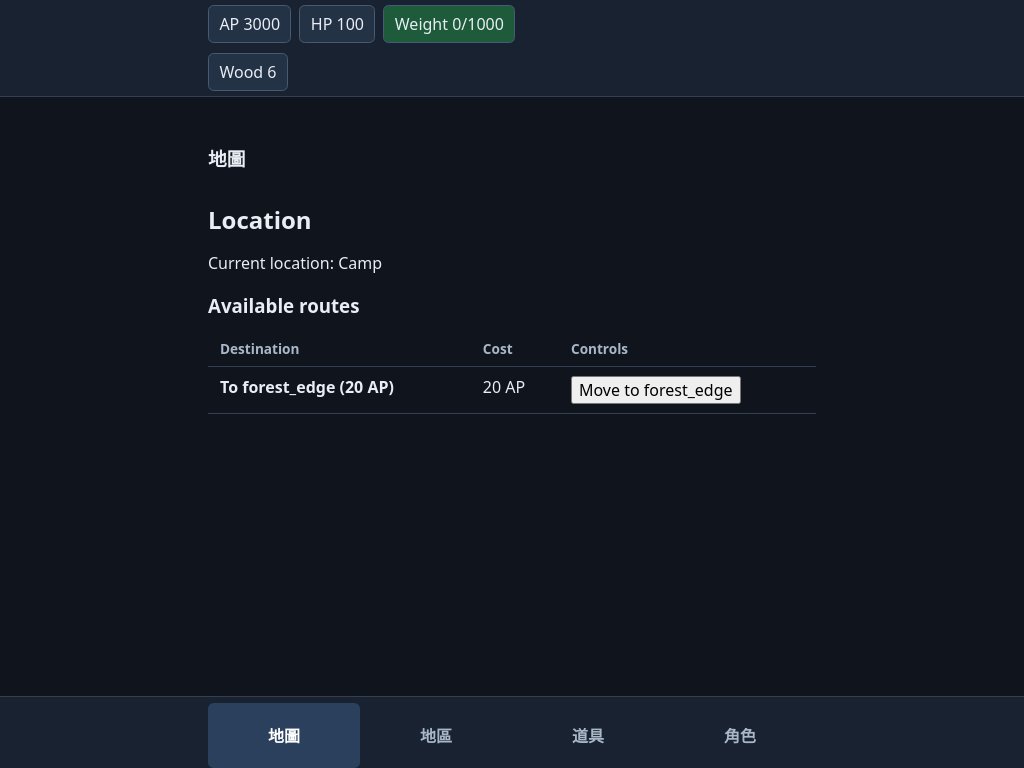
App gameplay tab integration › drops an Item with the requested quantity and applies authoritative state
The image size is (1024, 768).
Expected: the heading "地圖" is shown, top-left (208, 146), bottom-right (245, 171)
Step 1. Click the button "道具" → (588, 735), box top-left (512, 703), bottom-right (664, 767)
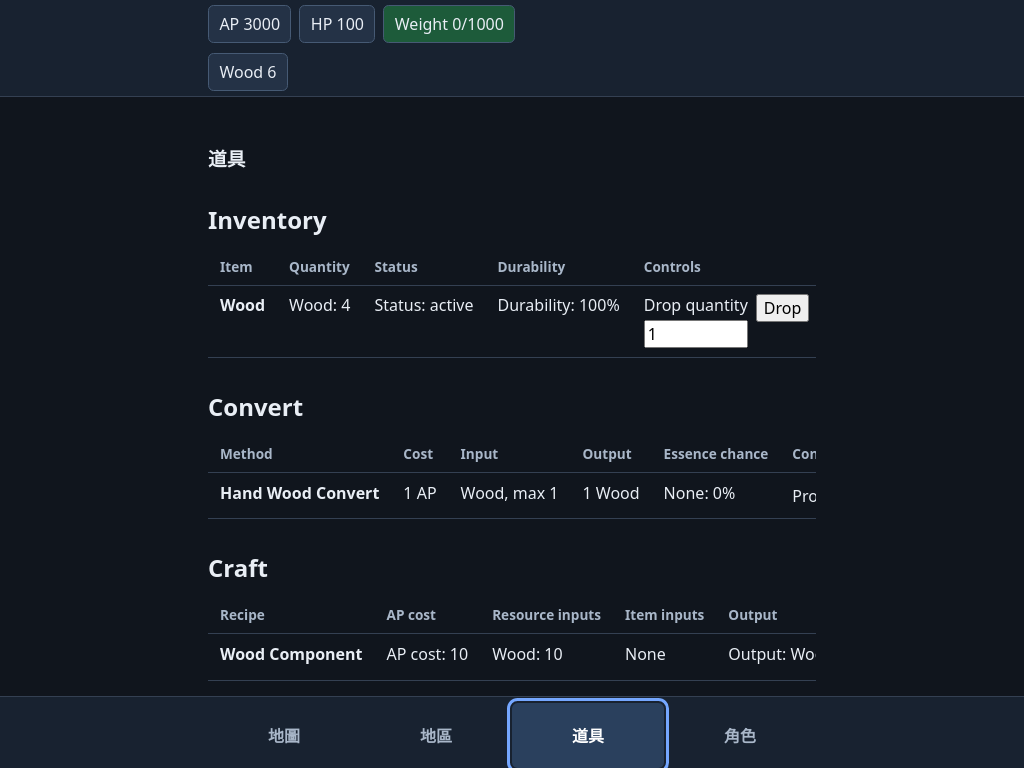
Now the heading "道具" is shown, box top-left (208, 146), bottom-right (245, 171)
Step 2. Replace the text in the number field named "Drop quantity for Wood" with "2" → (696, 334), box top-left (644, 320), bottom-right (748, 348)
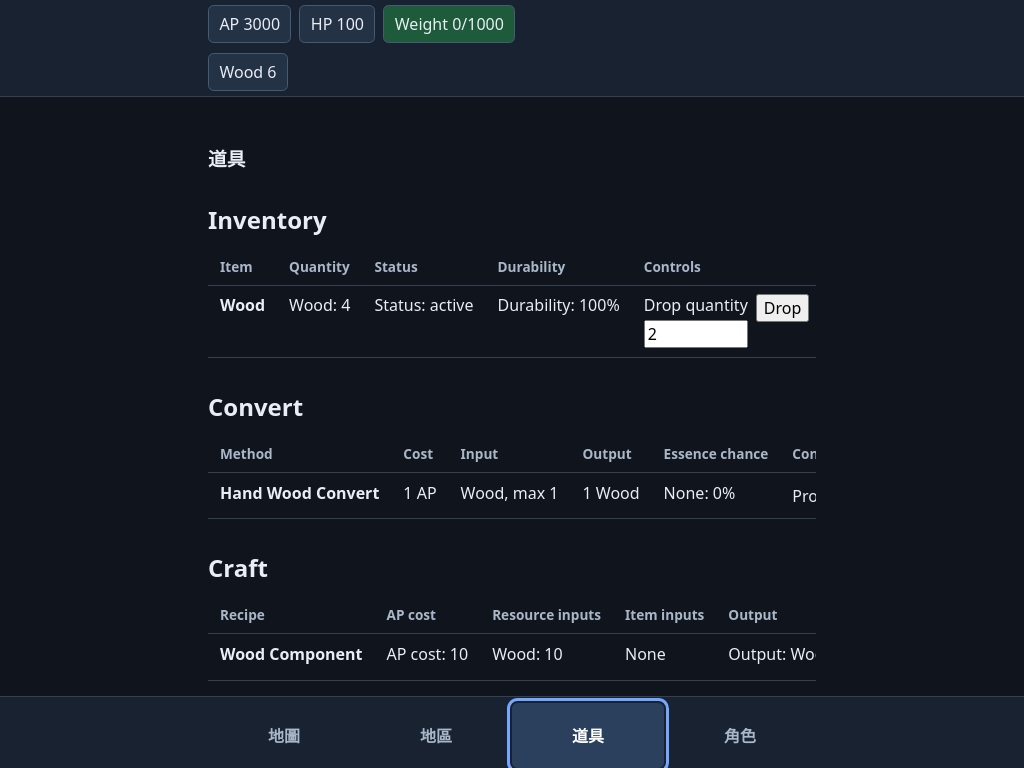
Step 3. Submit the form named "Drop quantity for Wood", box top-left (644, 294), bottom-right (809, 348)
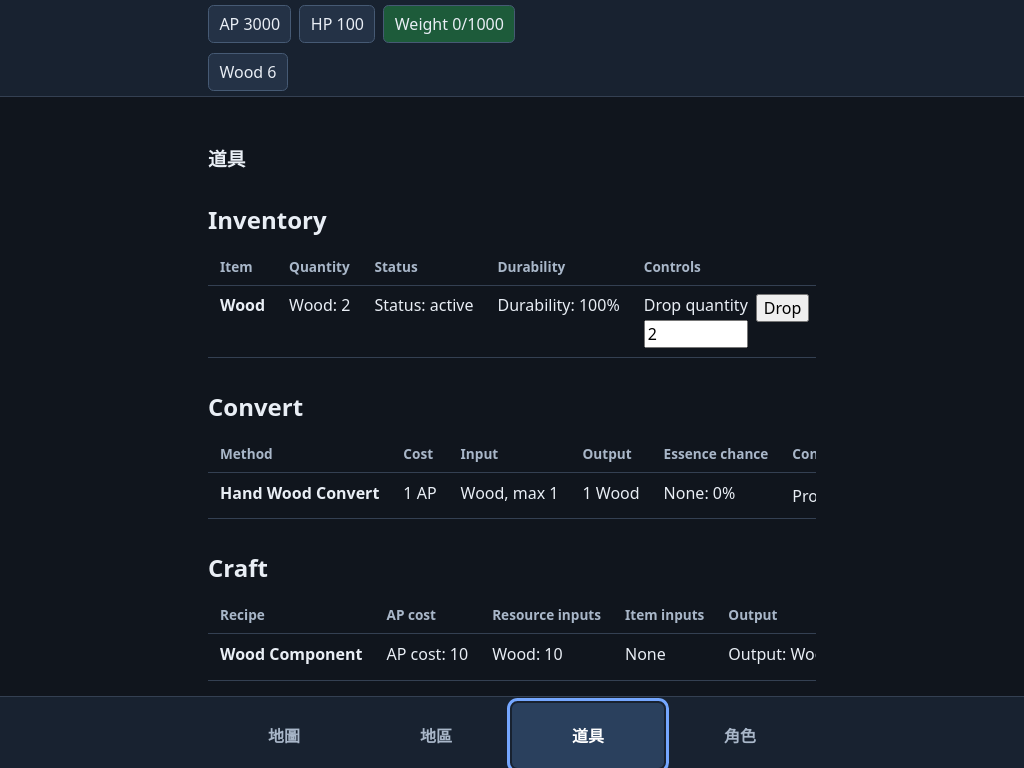
Expected: the text "Drop succeeded." is shown, top-left (208, 713), bottom-right (334, 735)
Now the text "Wood: 2" is shown, box top-left (277, 285), bottom-right (362, 358)
Step 4. Click the button "地區" → (436, 735), box top-left (360, 703), bottom-right (512, 767)
(page scrolled)
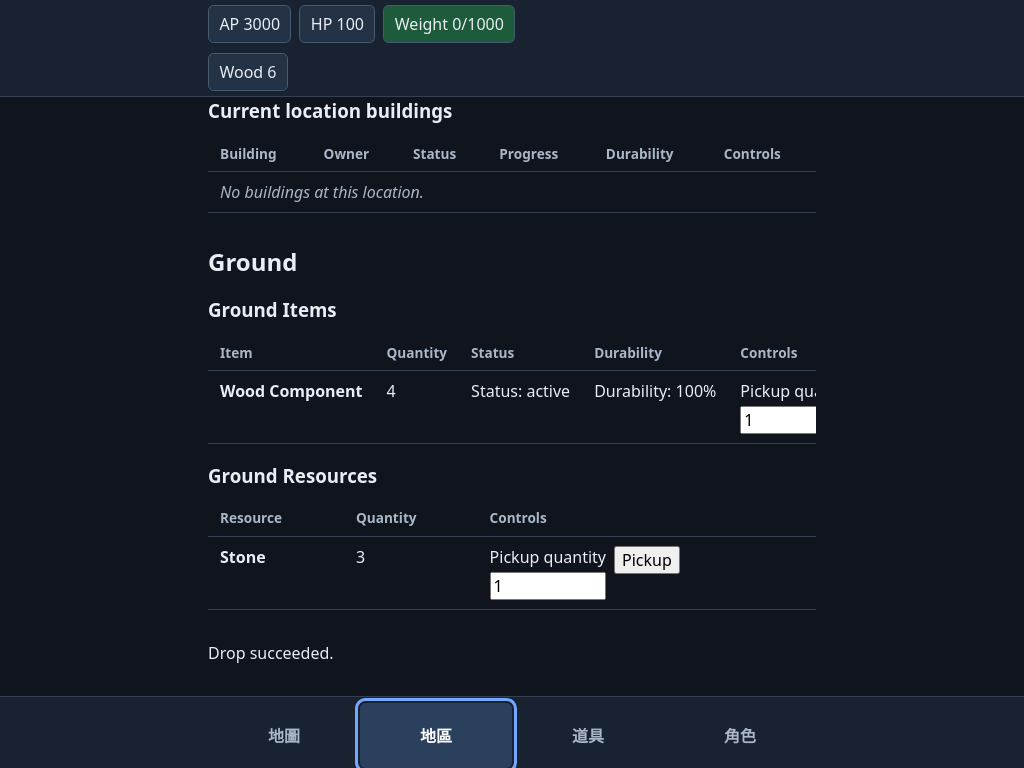
Now the text "4" is shown, box top-left (374, 371), bottom-right (459, 443)
